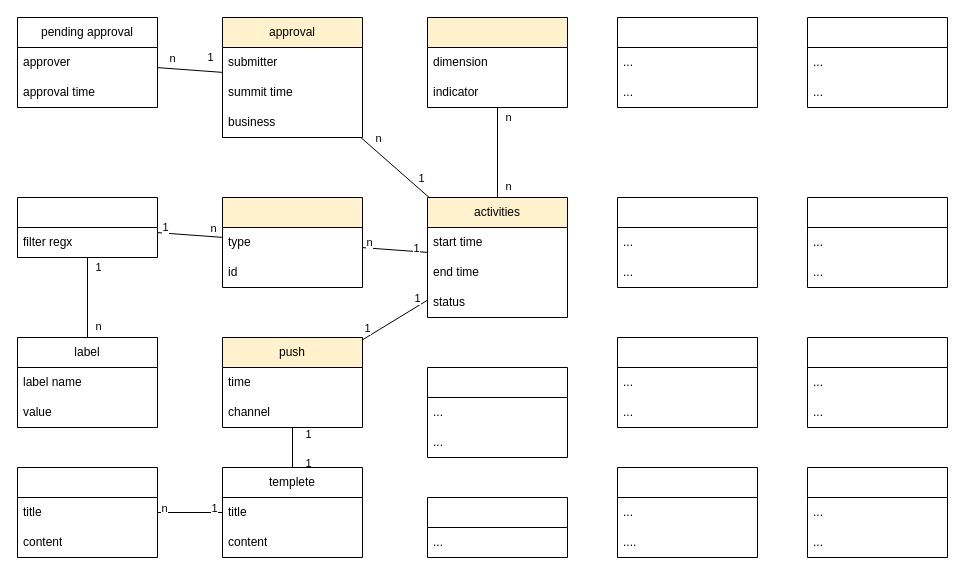
The diagram is 965 pixels wide and 575 high, and some of its shapes have lost their labels. Here are the shapes that lost their labels. From the top down, the box of each, then its label:
(426, 16, 568, 108): final report
(16, 196, 158, 258): group
(222, 196, 362, 288): target people
(16, 466, 158, 558): message
